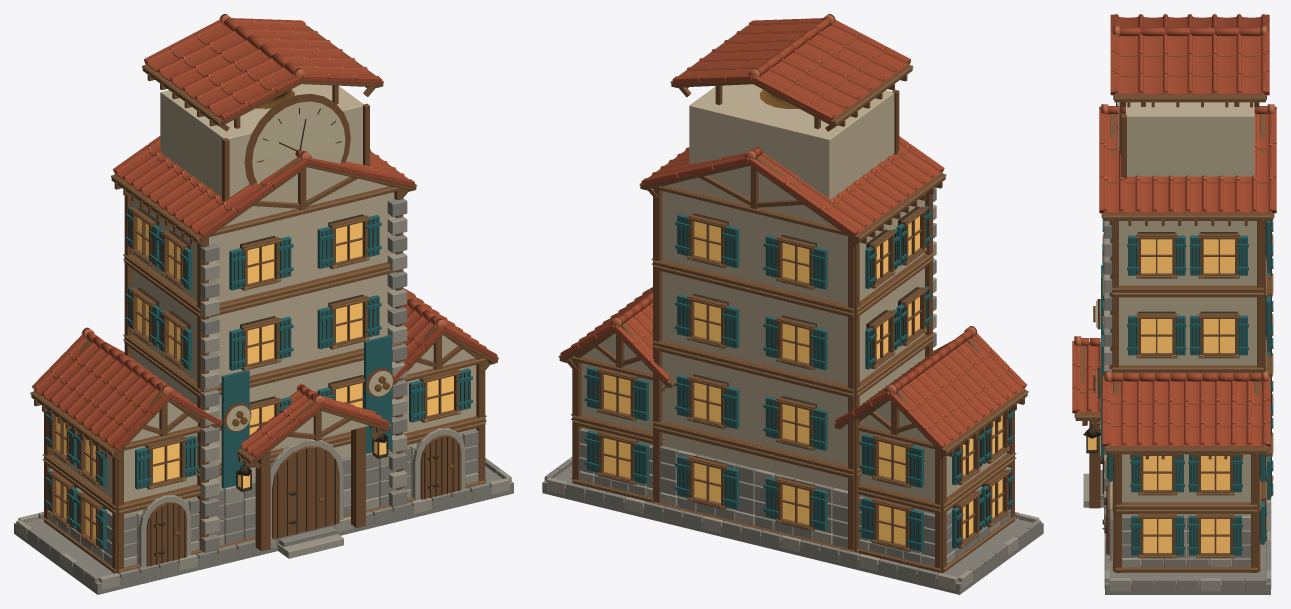
3 renders of one model, left to right at view 1: azimuth 30°, elevation 25°; view 2: azimuth 150°, elevation 25°; view 3: azimuth 270°, elevation 25°, orthographic.
Parts seen in each view (by area): view 1: alpine_finance_3_geometry; view 2: alpine_finance_3_geometry; view 3: alpine_finance_3_geometry.
Boxes of the visible parts, <box> form: alpine_finance_3_geometry: <box>14,14,513,594</box>; alpine_finance_3_geometry: <box>542,14,1043,594</box>; alpine_finance_3_geometry: <box>1072,14,1276,594</box>.
Size of the model in its own units: 2.38 by 2.57 by 1.02.
